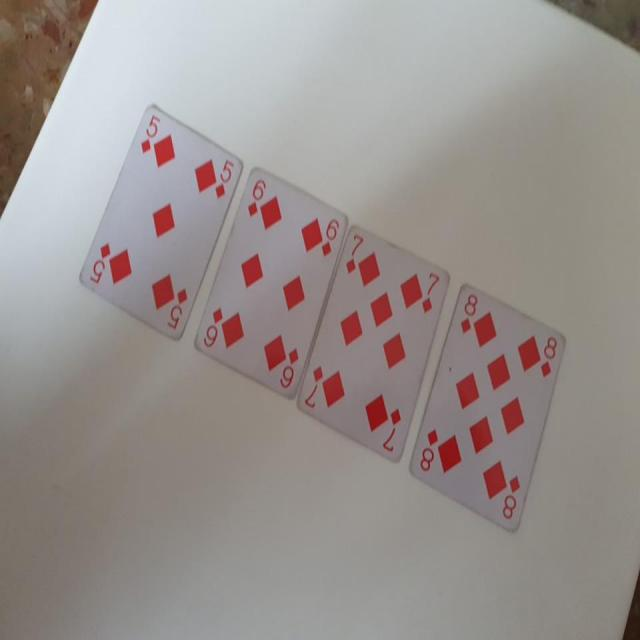5 Diamonds: (75, 98, 246, 349)
6 Diamonds: (195, 166, 350, 401)
7 Diamonds: (294, 224, 450, 467)
8 Diamonds: (408, 283, 566, 535)
